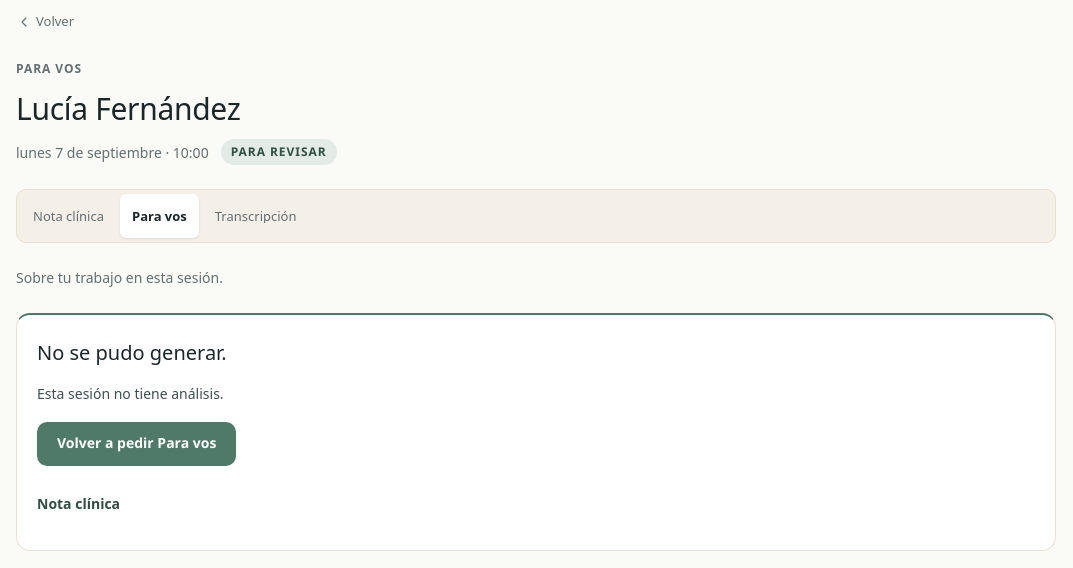
it: Para vos: estados y recuperación › muestra fallo y pide el reintento por el contrato existente
Step 1. Click the button "Volver a pedir Para vos" → x=137, y=444, box [37,422,236,466]
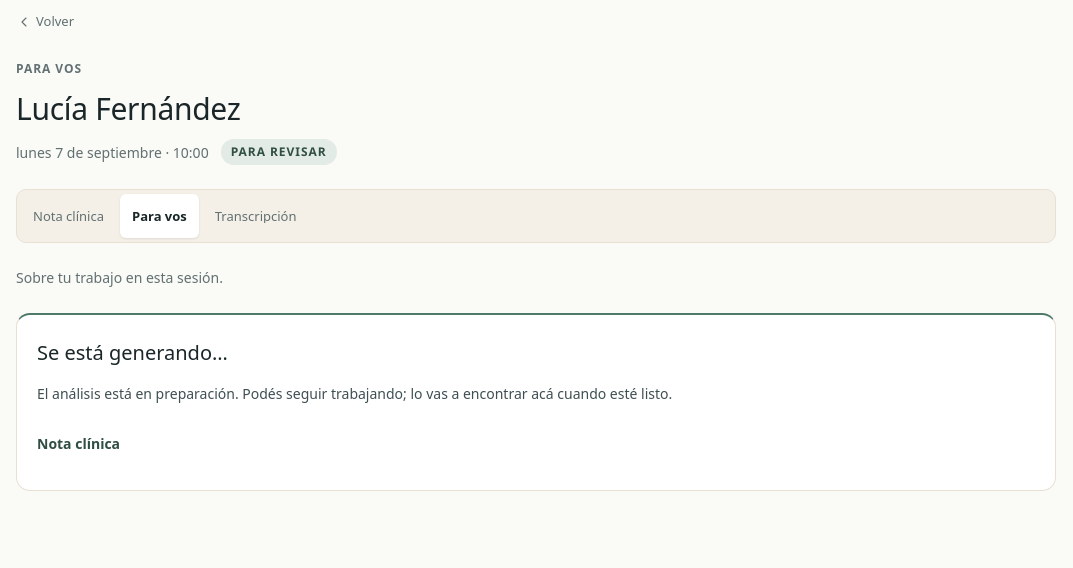
Check: the text "Se está generando…" is shown, box [37,339,228,367]
Check: the button "Volver a pedir Para vos" is gone
